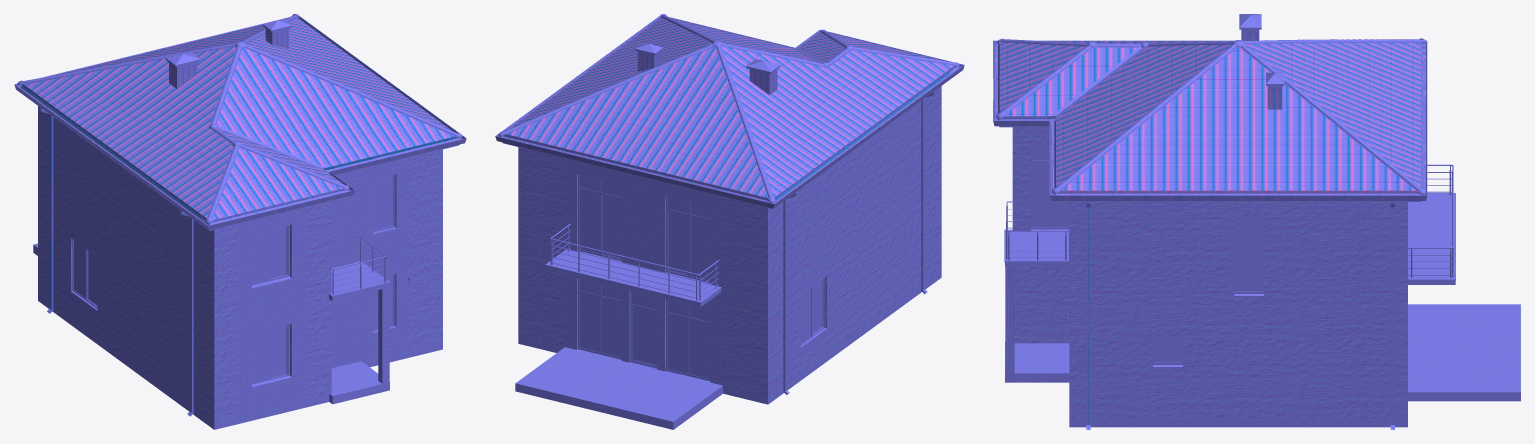
Rendered from Albina_house.FBX.
3 renders of one model, left to right at view 1: azimuth 30°, elevation 25°; view 2: azimuth 150°, elevation 25°; view 3: azimuth 270°, elevation 25°, orthographic. The views are drawn at different scales.
Parts seen in each view (by area): view 1: Box001, Object018; view 2: Box001, Object018; view 3: Box001, Object018.
Part boxes in pixels (x1,y1,x2,y2): Box001: [14, 16, 466, 429]; Object018: [17, 14, 462, 223]; Box001: [495, 16, 964, 429]; Object018: [498, 14, 959, 203]; Box001: [993, 40, 1520, 429]; Object018: [996, 14, 1426, 194].
Size of the model in its own units: 9843 by 9369 by 14136.
